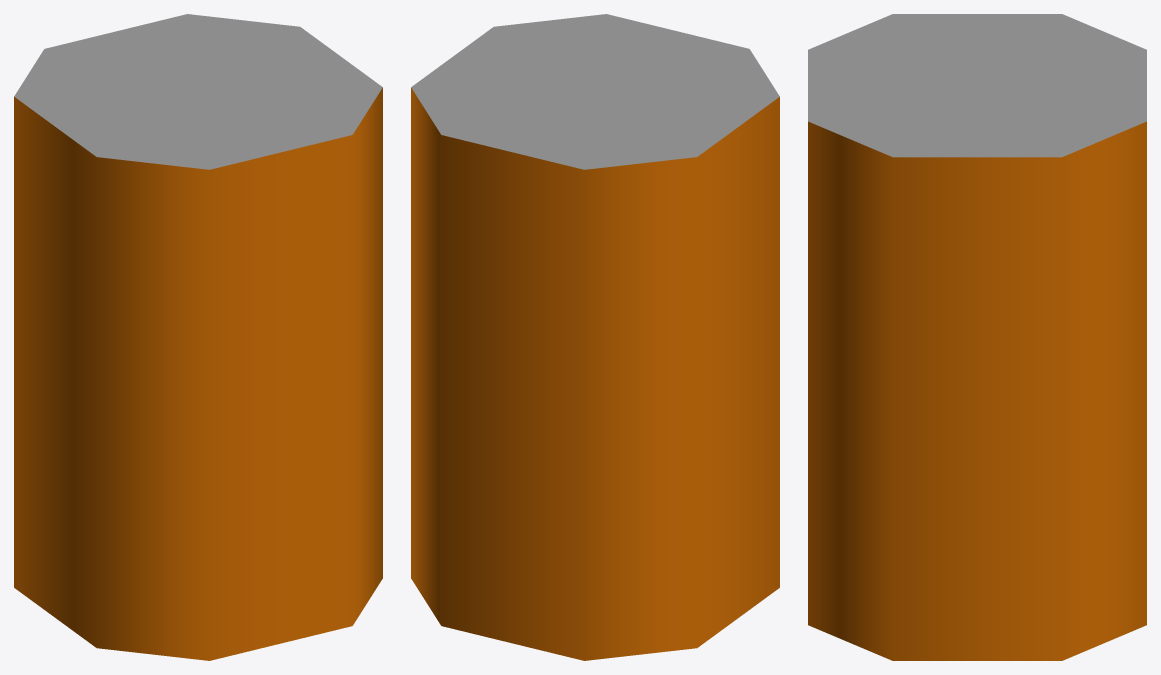
Rendered from jar.fbx.
3 renders of one model, left to right at view 1: azimuth 30°, elevation 25°; view 2: azimuth 150°, elevation 25°; view 3: azimuth 270°, elevation 25°, orthographic. The views are drawn at different scales.
Visible parts, largest first — view 1: jar; view 2: jar; view 3: jar.
Boxes of the visible parts, x1=… form: jar: x1=14, y1=14, x2=382, y2=660; jar: x1=411, y1=14, x2=779, y2=660; jar: x1=808, y1=14, x2=1146, y2=660.
Bounding box in the file's own units: 19.04 × 31.22 × 19.04.
